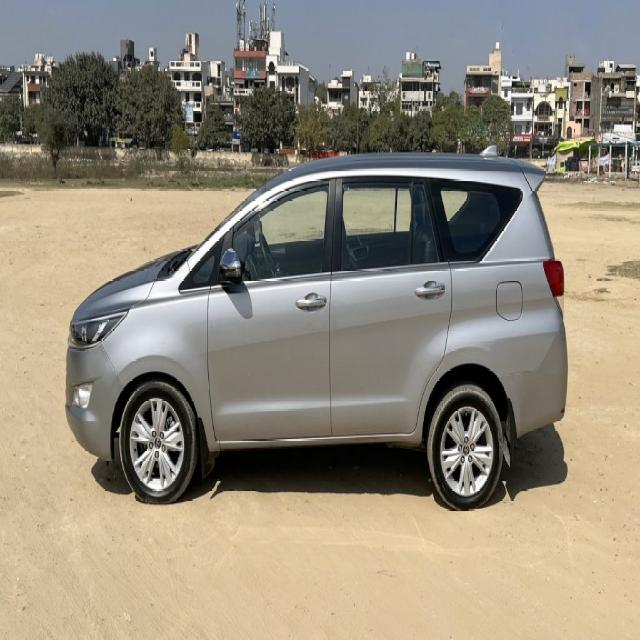light_vehicle: (65, 150, 569, 511)
